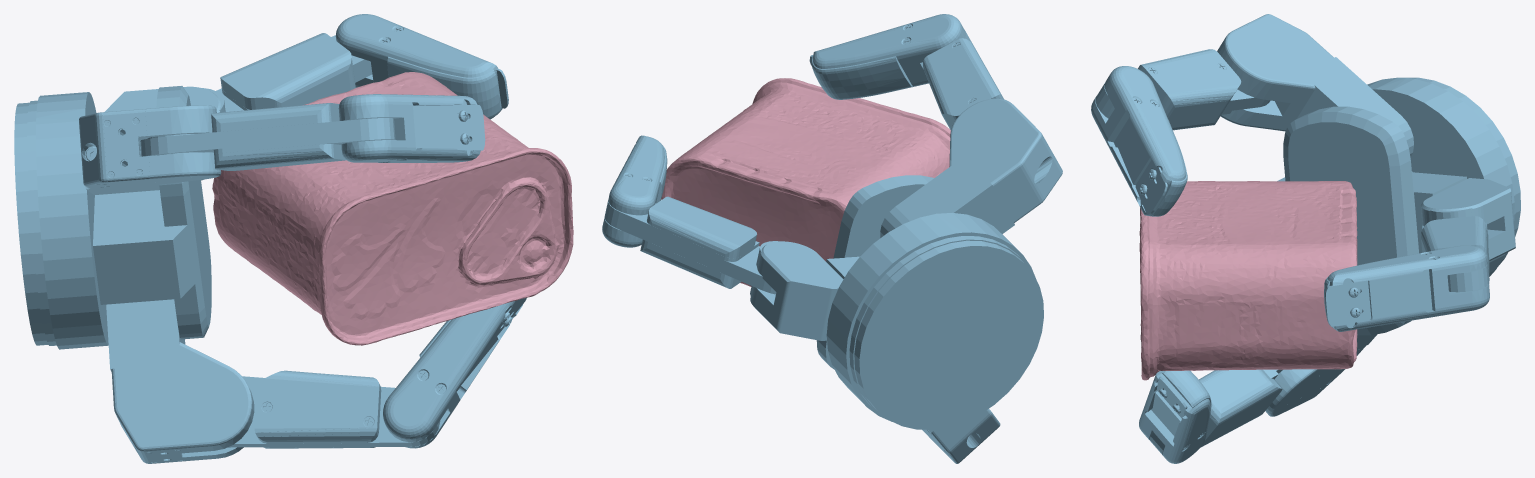
The picture shows the model from 3 angles, left to right: view 1: azimuth 30°, elevation 25°; view 2: azimuth 150°, elevation 25°; view 3: azimuth 270°, elevation 25°; orthographic projection. The views are drawn at different scales.
Visible parts, largest first — view 1: world; view 2: world; view 3: world.
Boxes of the visible parts, x1,y1,x2,y2 form: world: (14, 14, 573, 463); world: (602, 14, 1062, 463); world: (1091, 14, 1520, 463).
Bounding box in the file's own units: 0.195 × 0.1608 × 0.1648.
